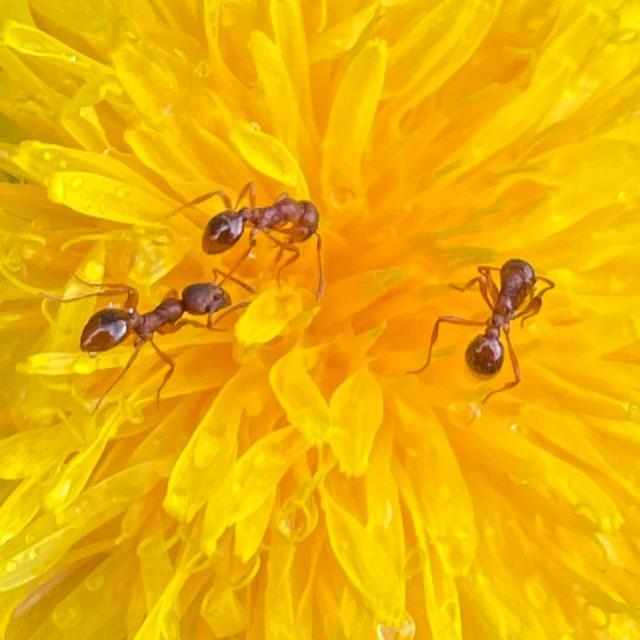Myrmica: (416, 223, 568, 401), (56, 253, 254, 384), (189, 170, 339, 274)
